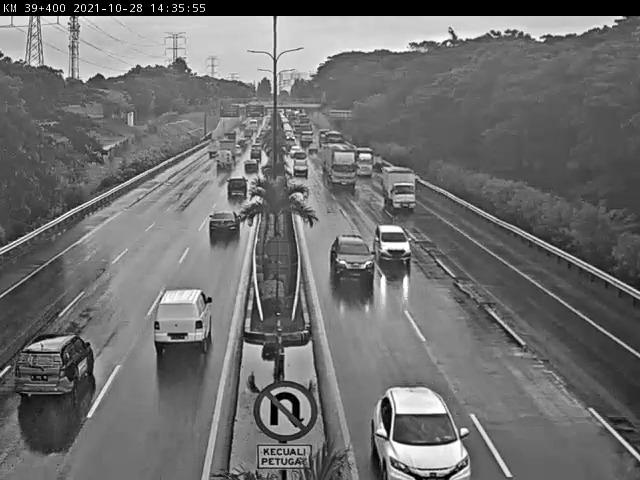big truck: (326, 150, 360, 190)
car: (372, 370, 476, 480), (13, 329, 97, 407), (148, 287, 214, 351), (325, 240, 377, 289), (370, 221, 414, 271), (379, 170, 421, 205), (208, 205, 239, 239), (293, 153, 312, 183), (228, 175, 246, 198), (246, 160, 259, 173)
small truck: (358, 150, 374, 177), (219, 150, 237, 169), (223, 138, 234, 152)
